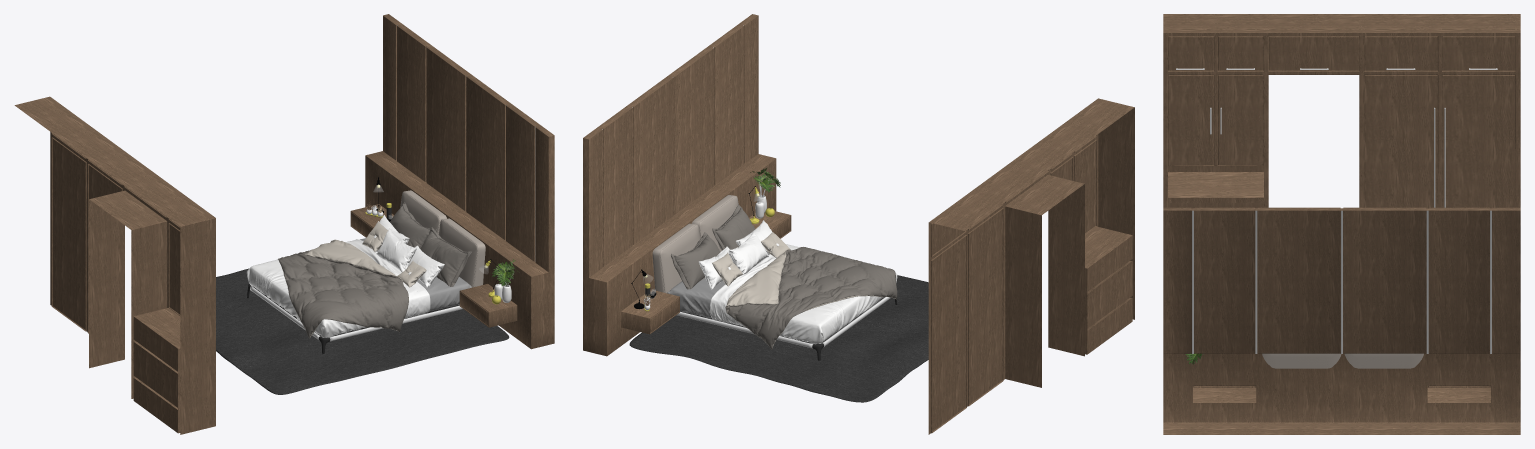
Rendered from apartamento-quarto.glb.
3 views of the same model, side by side, from view 1: azimuth 30°, elevation 25°; view 2: azimuth 150°, elevation 25°; view 3: azimuth 270°, elevation 25° (orthographic). The views are drawn at different scales.
Visible parts, largest first — view 1: BedroomWardrobes, Plane.004, Bed, BedroomRug, BedDecors; view 2: BedroomWardrobes, Plane.004, Bed, BedroomRug, BedDecors; view 3: Plane.004, BedroomWardrobes, Bed.
Part boxes in pixels (<box>): BedroomWardrobes: <box>14,96,215,434</box>; Plane.004: <box>350,14,554,349</box>; Bed: <box>246,190,485,353</box>; BedroomRug: <box>216,268,509,394</box>; BedDecors: <box>365,177,519,304</box>; BedroomWardrobes: <box>928,98,1134,434</box>; Plane.004: <box>583,14,791,356</box>; Bed: <box>652,195,897,360</box>; BedroomRug: <box>629,275,928,402</box>; BedDecors: <box>631,168,780,311</box>; Plane.004: <box>1163,207,1520,434</box>; BedroomWardrobes: <box>1163,14,1520,208</box>; Bed: <box>1262,353,1423,368</box>.
Bounding box in the file's own units: 5.78 × 3.08 × 4.43.
18 materials, 6 textured.
